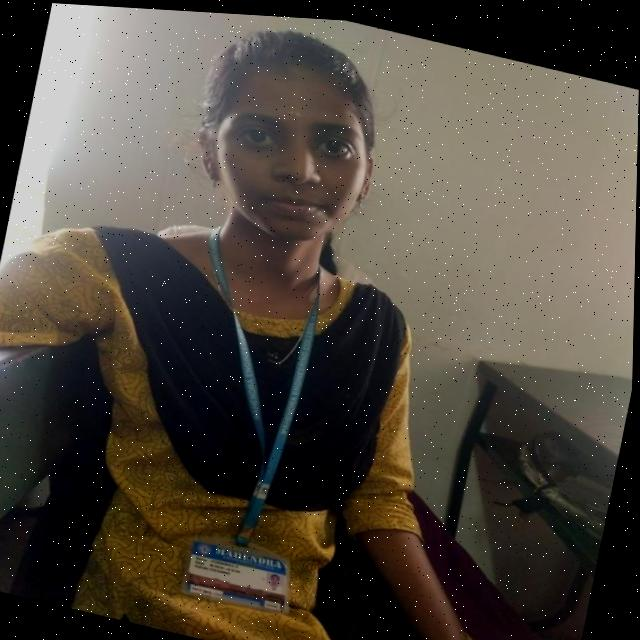id_card: (131, 213, 361, 629)
